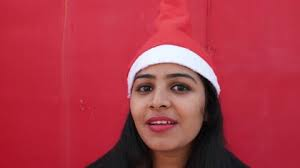indian_female: (101, 35, 237, 156)
